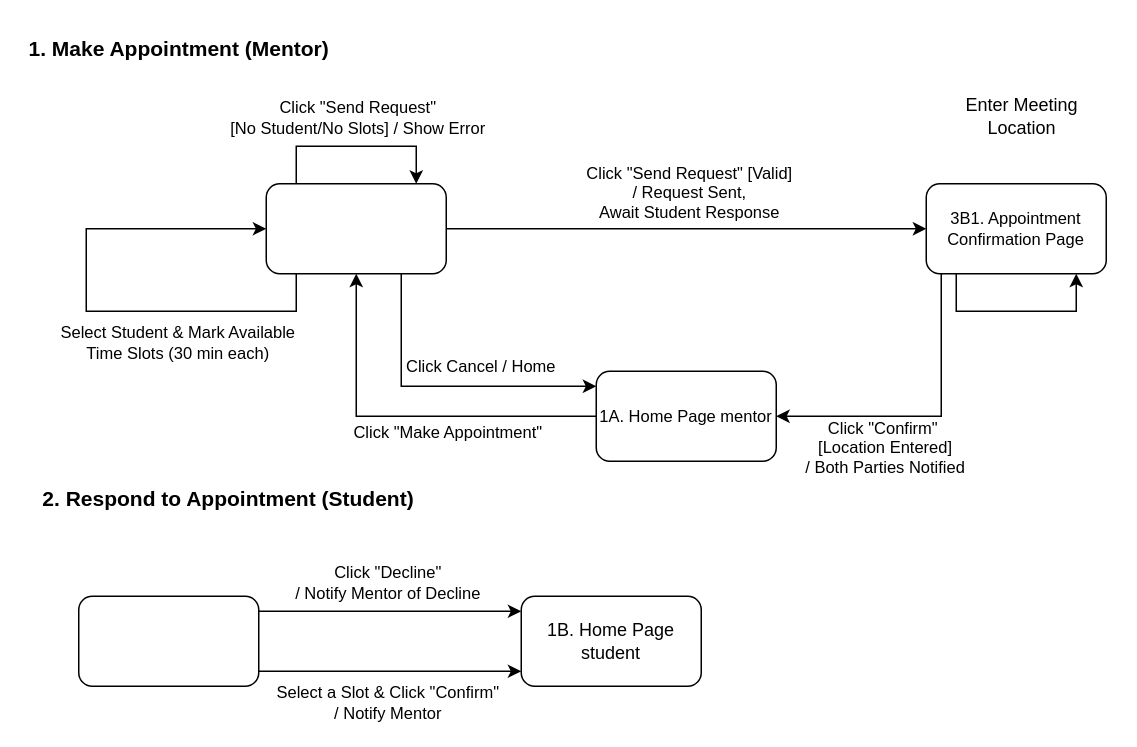
Some shapes in this 1137 by 747 pixel diagram are drawn without their labels. Each missing label, with the centre of its shape:
3B. Make Appointment Page: (355,228)
3B2. Select Time Slot Page: (168,640)
